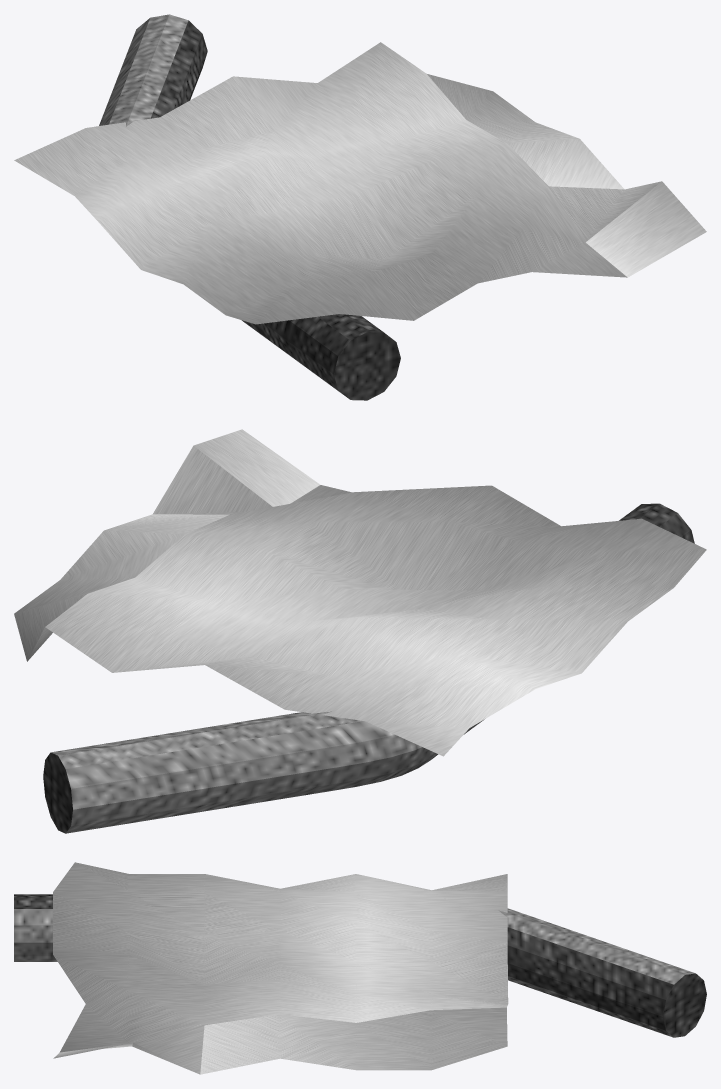
The model's file is Scrap02.fbx.
3 renders of one model, top to bottom at view 1: azimuth 30°, elevation 25°; view 2: azimuth 150°, elevation 25°; view 3: azimuth 270°, elevation 25°, orthographic. The views are drawn at different scales.
Parts seen in each view (by area): view 1: pPlane1, pCylinder8; view 2: pPlane1, pCylinder8; view 3: pPlane1, pCylinder8.
Part boxes in pixels (x1,y1,x2,y2): pPlane1: [14, 42, 706, 324]; pCylinder8: [99, 14, 400, 400]; pPlane1: [14, 429, 706, 756]; pCylinder8: [43, 503, 694, 833]; pPlane1: [53, 862, 508, 1074]; pCylinder8: [14, 894, 706, 1037].
Bounding box in the file's own units: 3.99 × 0.7646 × 6.11.
